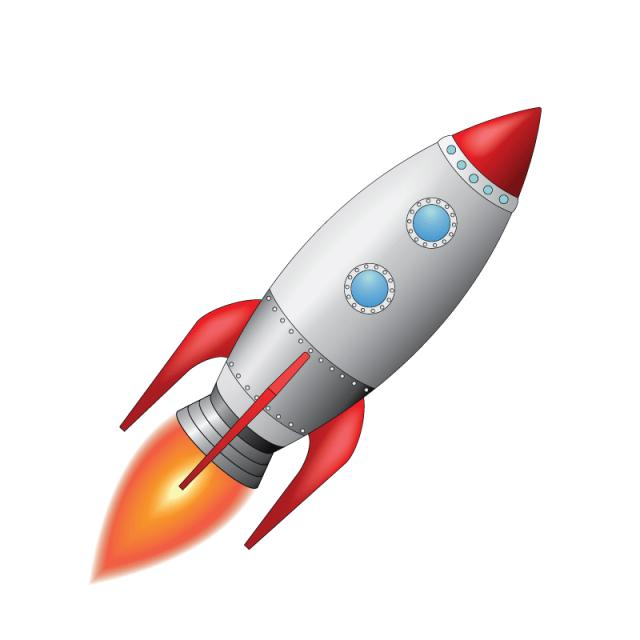rocket: (109, 96, 553, 565)
